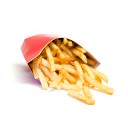frenchfries: (30, 38, 115, 106)
